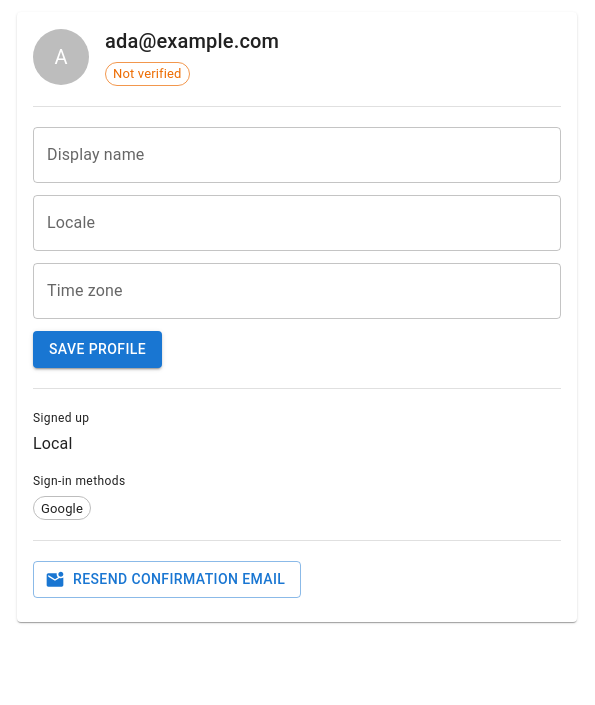
UserService › keeps a custom scheme out of the confirmation request
The width and height of the screenshot is (595, 705).
What coordinates should you click on to do the following:
click the button "Resend confirmation email"
I would click on:
 (167, 580)
Its box is x1=33 y1=561 x2=301 y2=598.
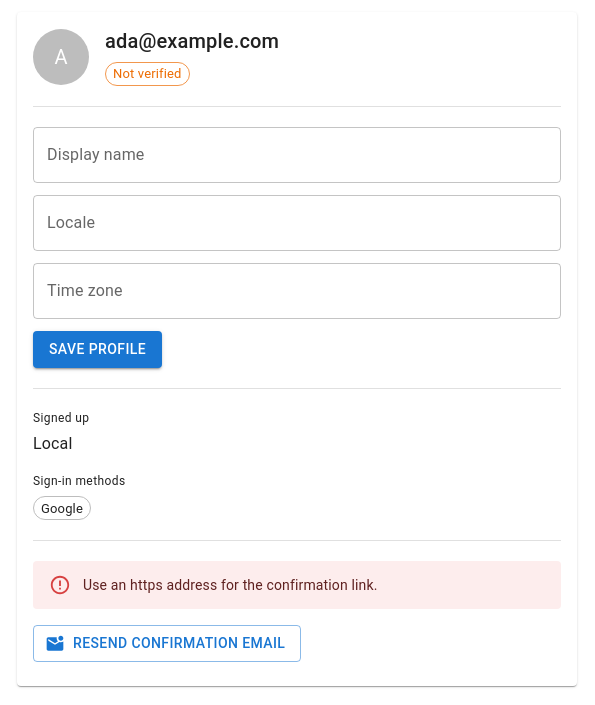
Check: the text "Use an https address for the confirmation link." is shown, box x1=83 y1=577 x2=378 y2=593
